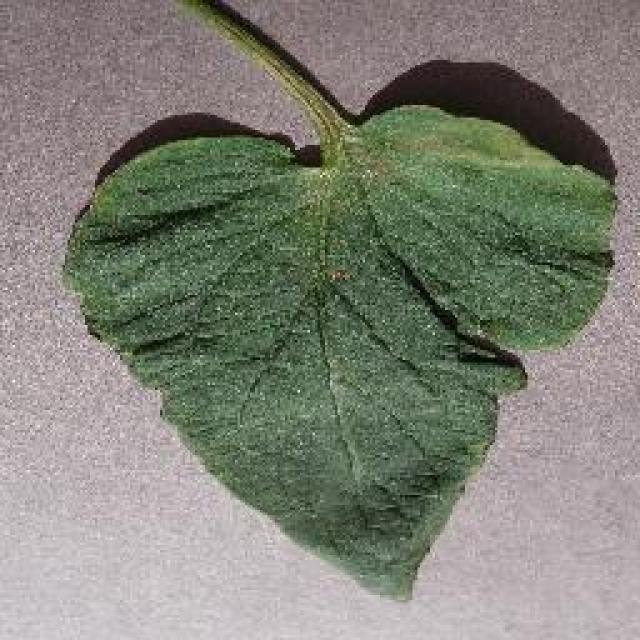Tomato___Target_Spot: (65, 0, 612, 592)
